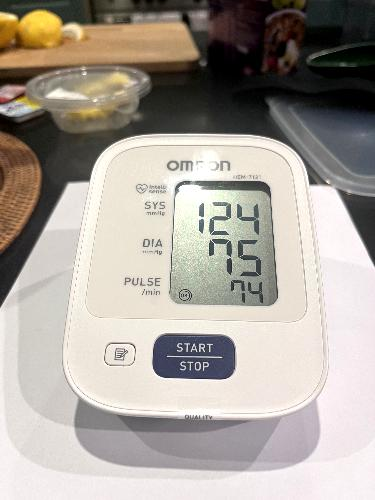bpm: (167, 176, 283, 308)
